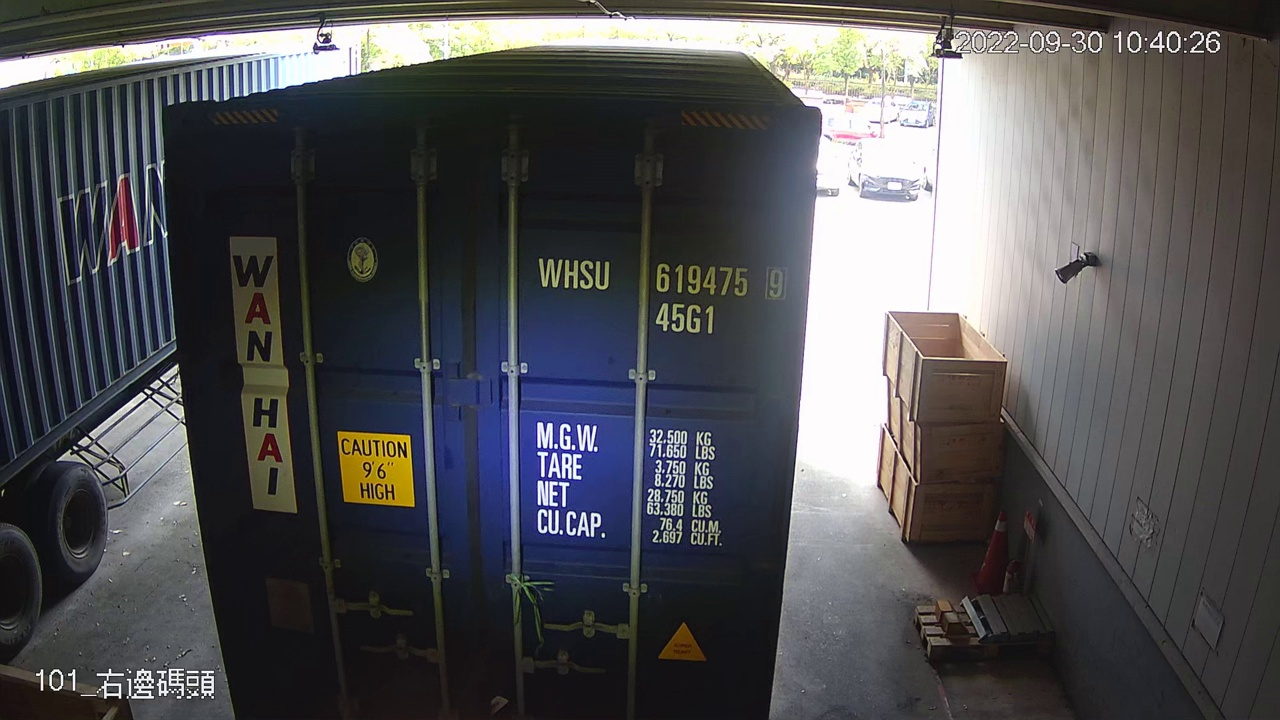container: (533, 247, 792, 339)
